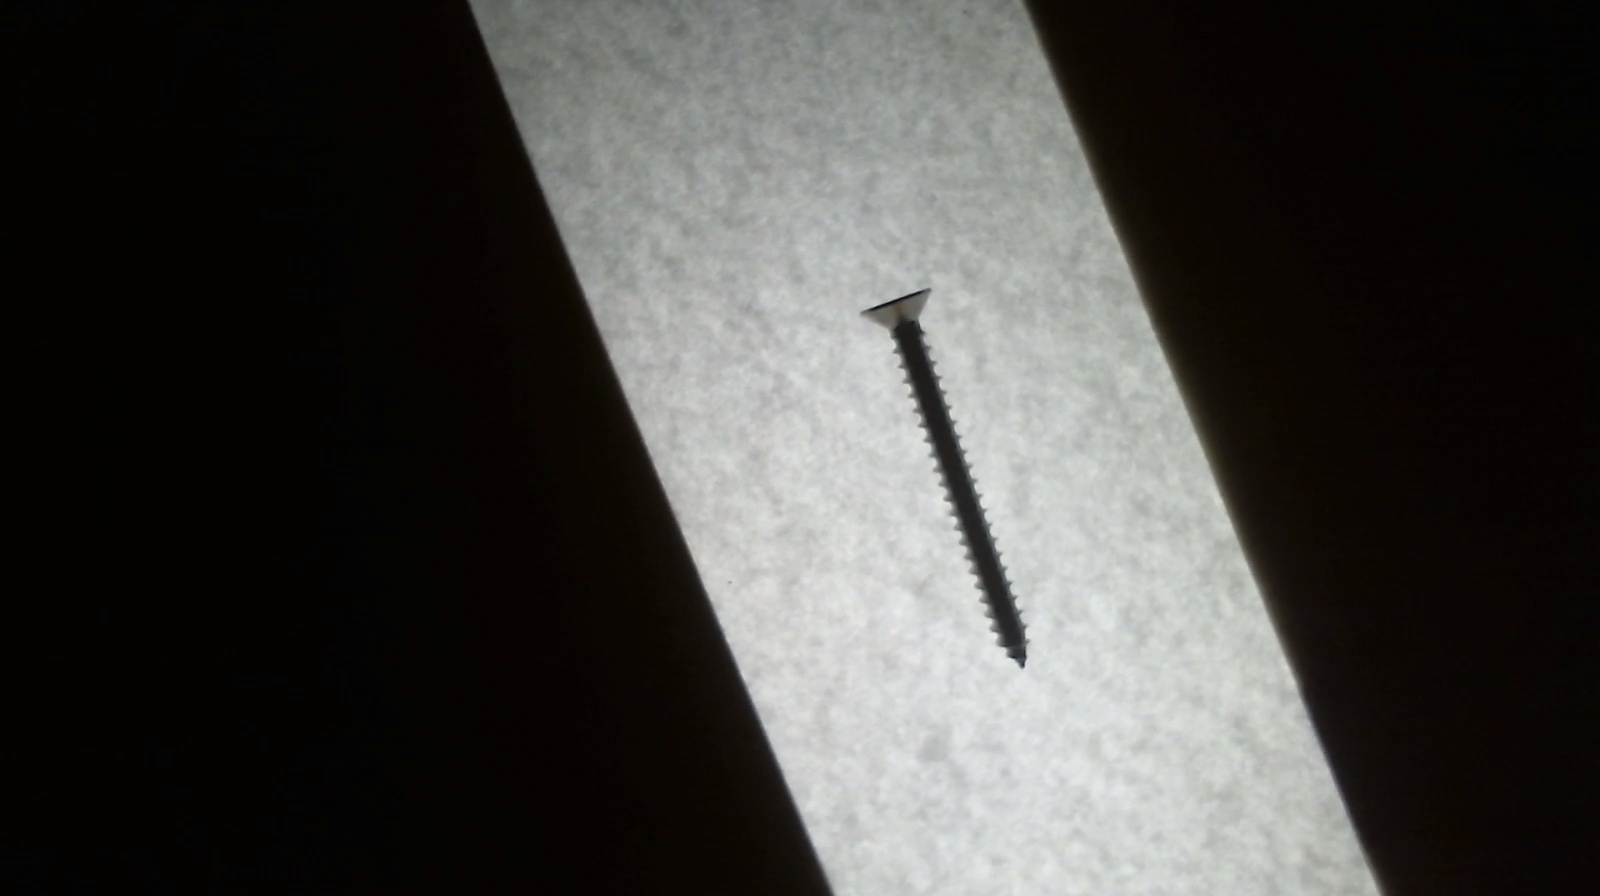S002: (826, 264, 1065, 681)
